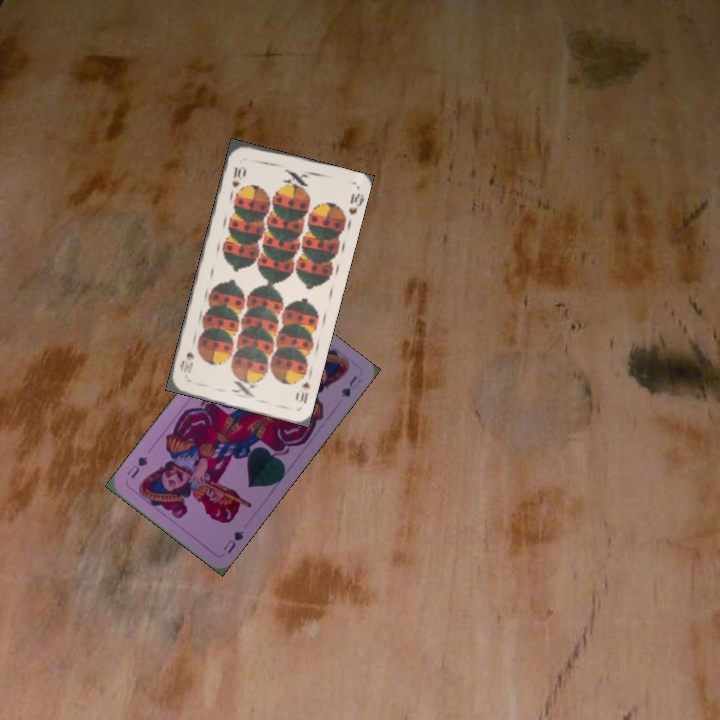GU: (219, 527, 246, 556)
S10: (291, 378, 313, 406), (228, 162, 247, 190)
